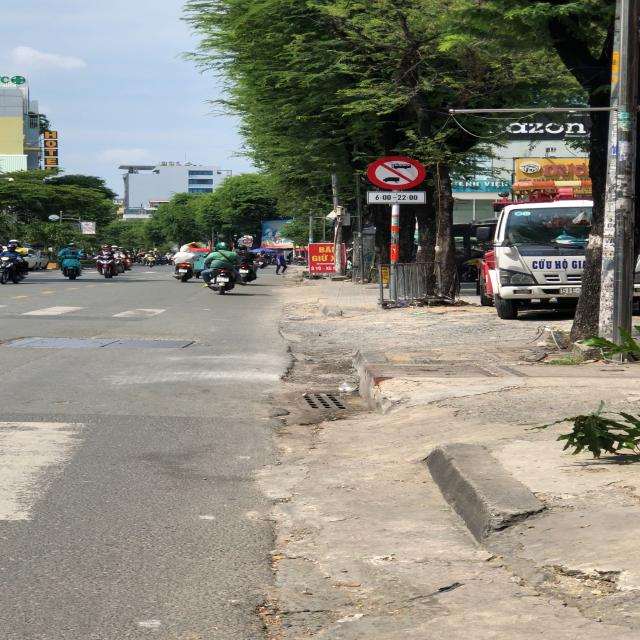Bien bao cam xe oto khach va xe oto tai: (362, 154, 430, 190)
